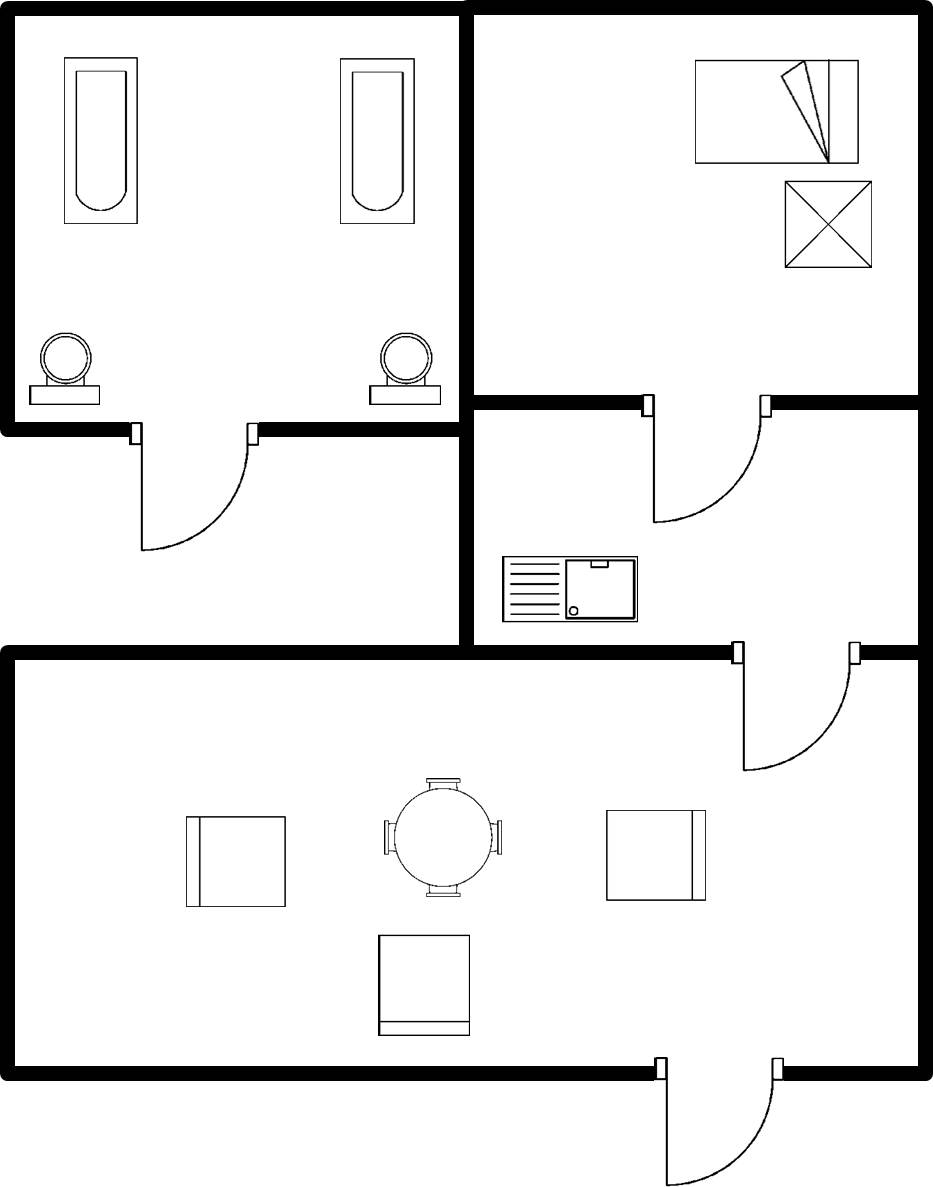bed: (682, 50, 864, 171)
coffee_table: (773, 171, 878, 284)
large_sink: (361, 326, 449, 414), (23, 329, 114, 413)
round_table: (375, 764, 513, 909)
sink: (493, 545, 650, 637)
small_sofa: (596, 798, 720, 915), (371, 924, 481, 1045), (171, 809, 295, 915)
tub: (330, 49, 425, 233), (57, 49, 147, 233)
